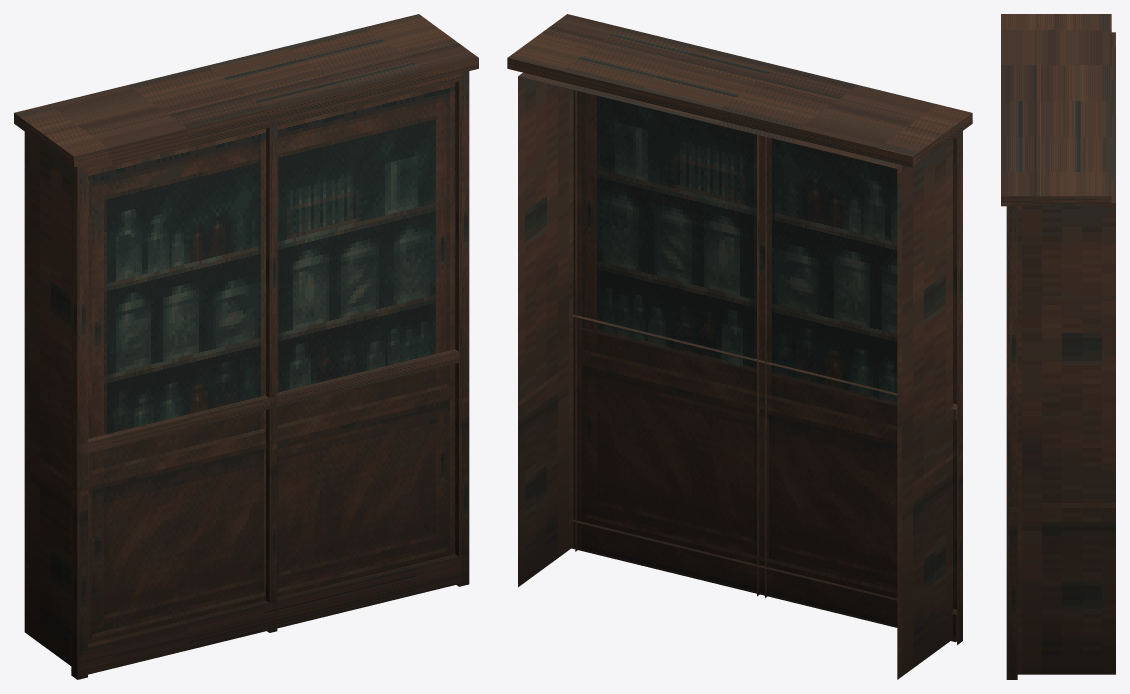
The model's file is prop_shelf_lab-1.glb.
3 views of the same model, side by side, from view 1: azimuth 30°, elevation 25°; view 2: azimuth 150°, elevation 25°; view 3: azimuth 270°, elevation 25° (orthographic). The views are drawn at different scales.
Visible parts, largest first — view 1: prop_shelf_lab-1; view 2: prop_shelf_lab-1; view 3: prop_shelf_lab-1.
Part boxes in pixels (x1=…): prop_shelf_lab-1: x1=14, y1=14, x2=478, y2=679; prop_shelf_lab-1: x1=507, y1=14, x2=972, y2=679; prop_shelf_lab-1: x1=1001, y1=14, x2=1115, y2=679.
Size of the model in its own units: 1.56 by 1.94 by 0.415.
1 material, 1 textured.
